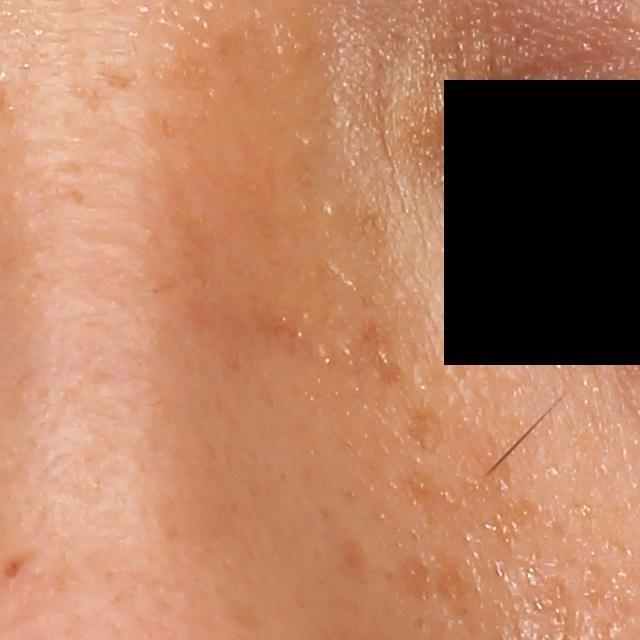melasma: (349, 320, 409, 386), (435, 547, 481, 600), (210, 24, 258, 72), (407, 400, 445, 452), (97, 63, 140, 93)
nevus: (5, 553, 35, 581)
